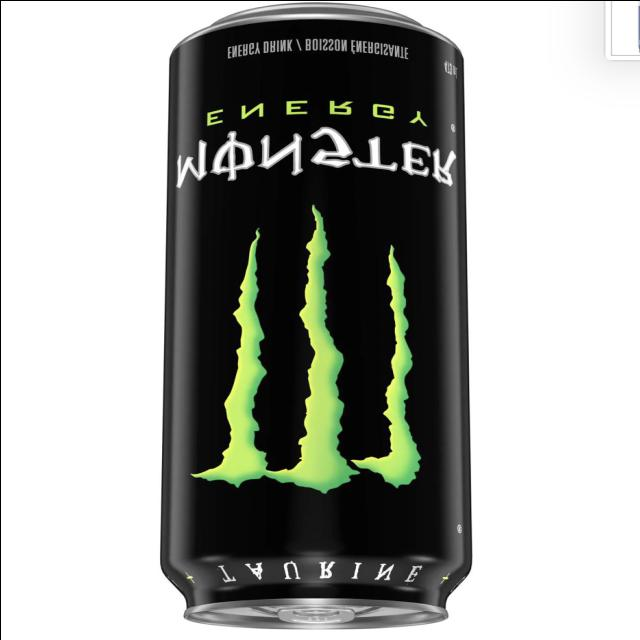can: (98, 1, 524, 631)
